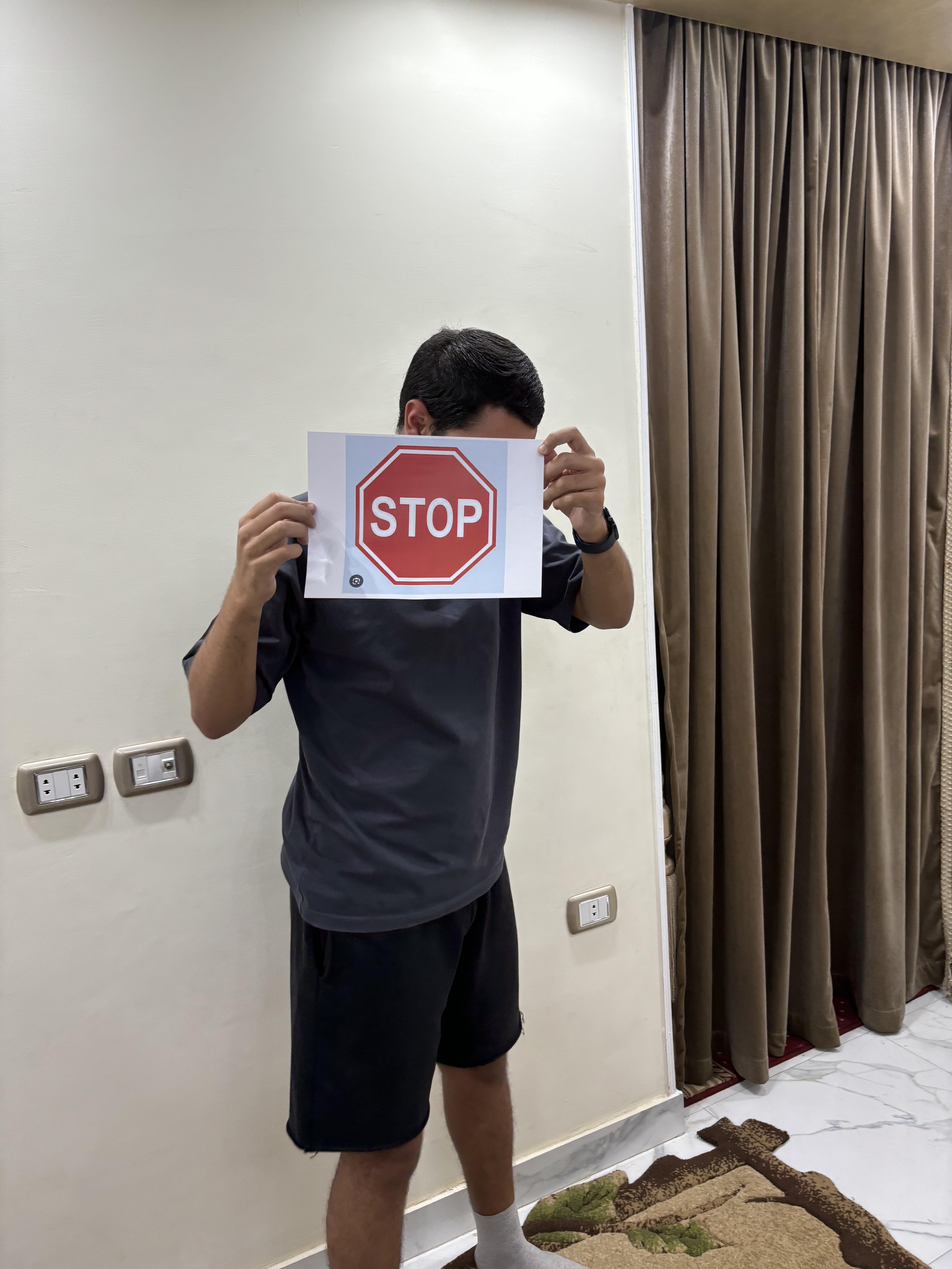Stop: (349, 443, 500, 586)
